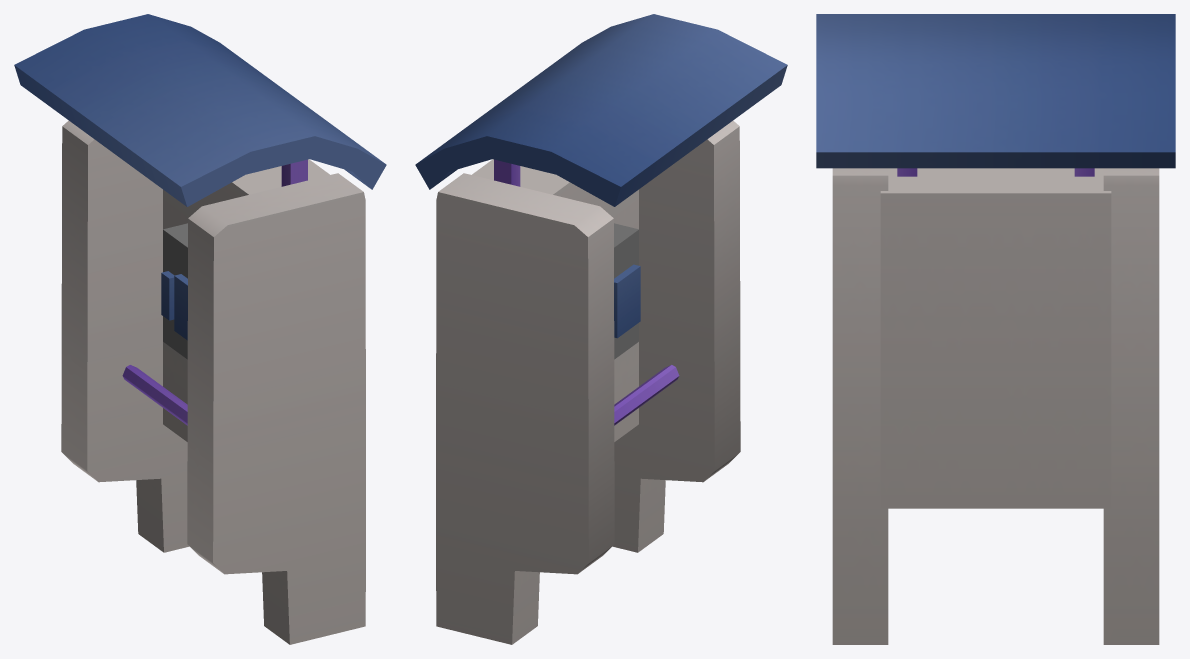
The model's file is Phone.fbx.
3 renders of one model, left to right at view 1: azimuth 30°, elevation 25°; view 2: azimuth 150°, elevation 25°; view 3: azimuth 270°, elevation 25°, orthographic. The views are drawn at different scales.
Visible parts, largest first — view 1: Cube_004_004; view 2: Cube_004_004; view 3: Cube_004_004.
Part boxes in pixels (bbox=[...]): Cube_004_004: bbox=[14, 14, 386, 644]; Cube_004_004: bbox=[415, 14, 787, 644]; Cube_004_004: bbox=[816, 14, 1175, 644].
Bounding box in the file's own units: 2640 × 6253 × 3706.
